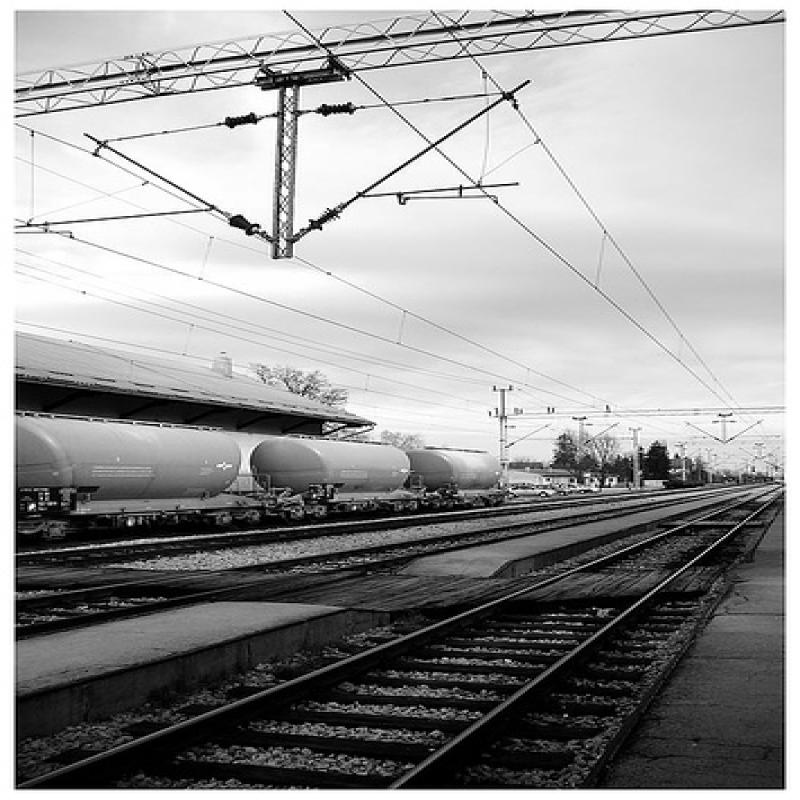train: (12, 406, 508, 542)
